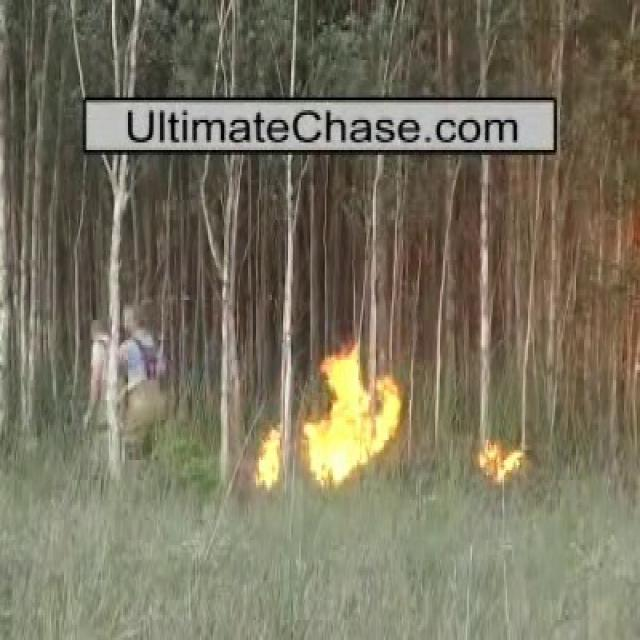fire: (302, 346, 400, 492)
